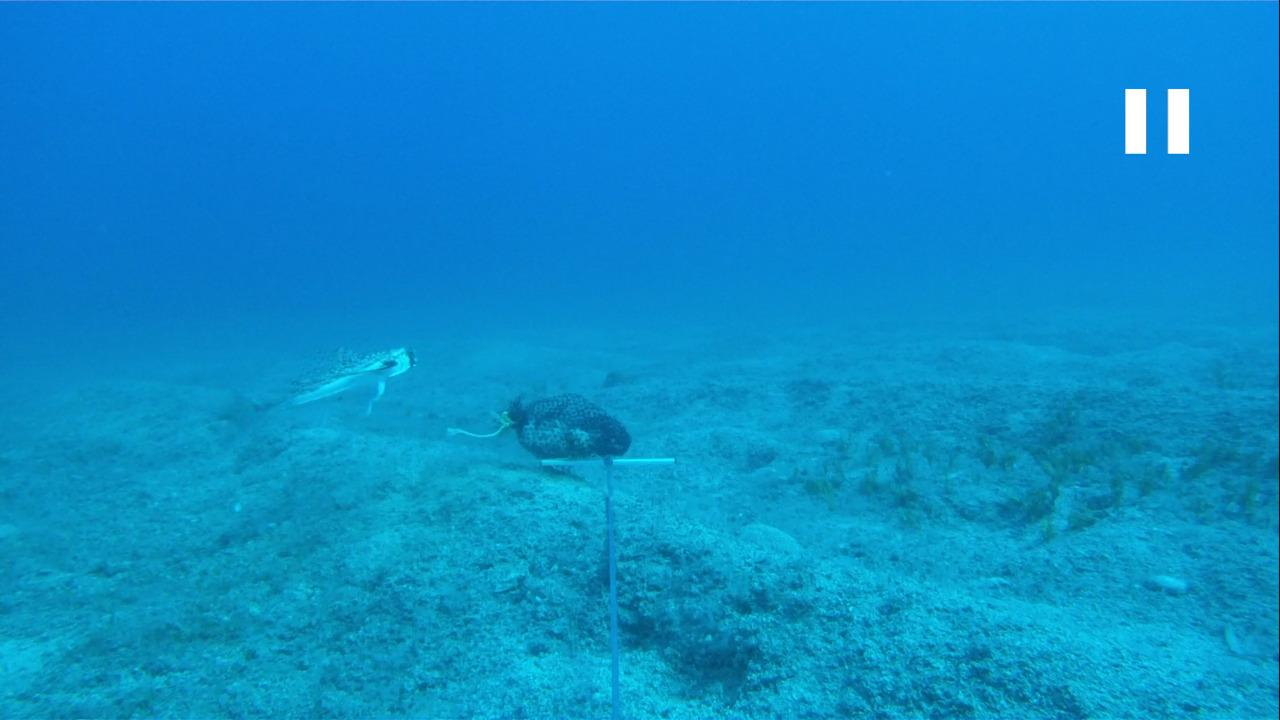dactylopterus: (251, 339, 421, 441)
